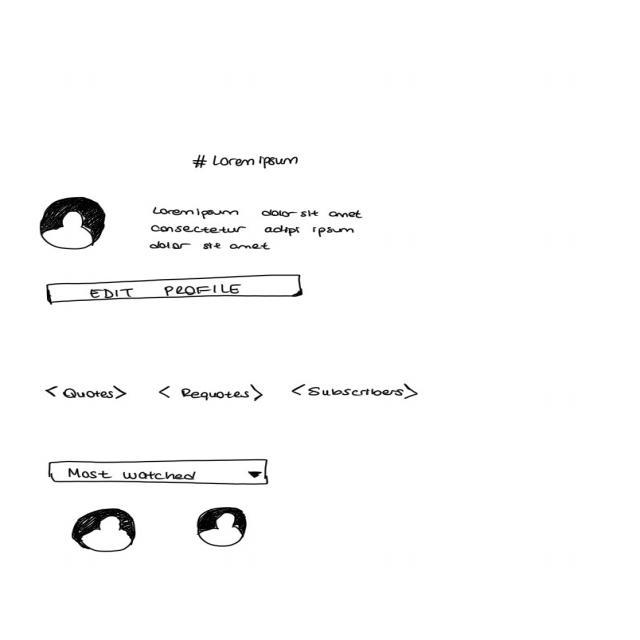button: (46, 272, 304, 306)
image: (37, 197, 110, 250), (70, 506, 140, 554), (194, 504, 248, 548)
label: (190, 152, 302, 172)
link: (290, 380, 418, 400), (157, 383, 266, 403), (44, 382, 128, 400)
select: (46, 459, 270, 487)
textbox: (148, 205, 364, 254)
